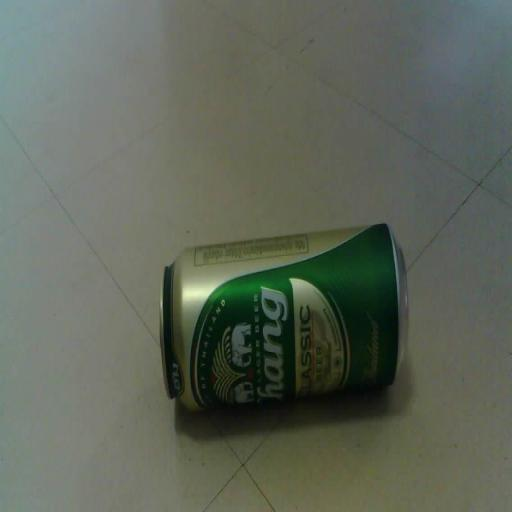canned: (143, 212, 428, 427)
